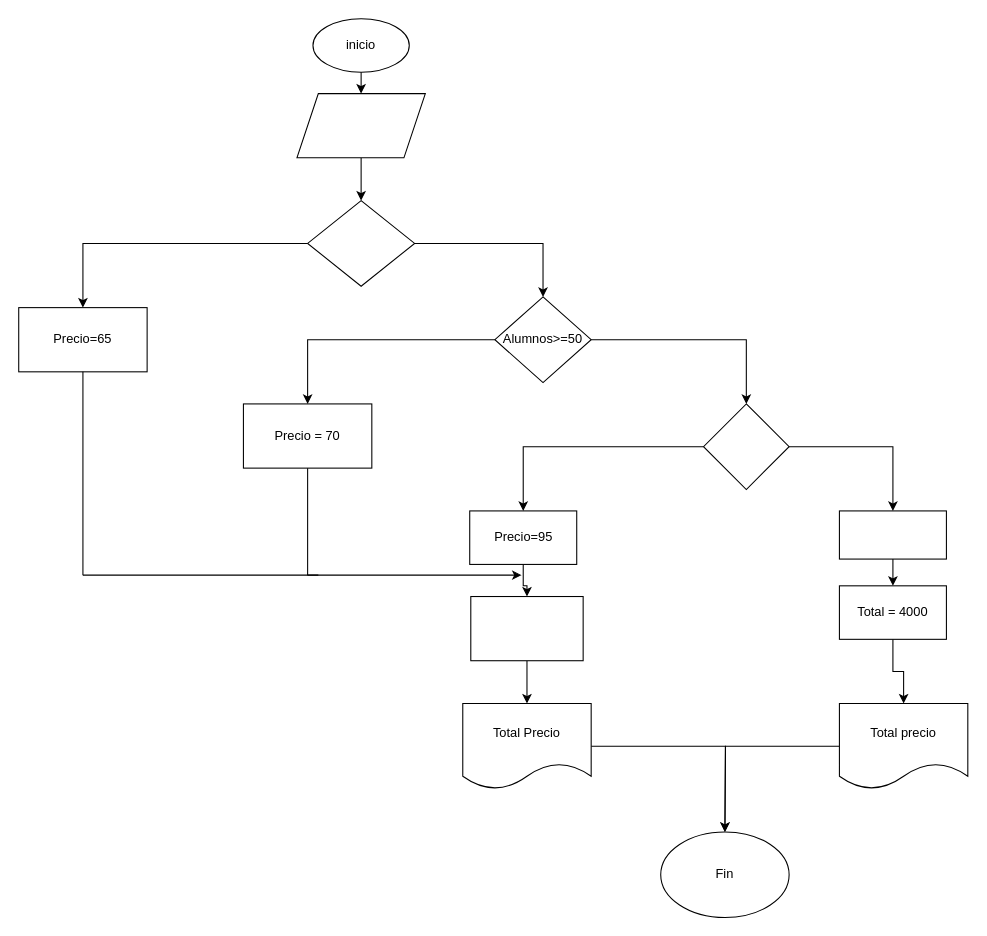
This 987x936 diagram has some shape labels left out. Each missing label, with the centre of its shape:
"Alumno>=30" goes at (x=745, y=446).
"Alumnos" goes at (x=360, y=125).
"Alumnos>=100" goes at (x=361, y=243).
"Precio= 4000/Alumnos" goes at (x=892, y=534).
"Total= precio*Alumnos" goes at (x=526, y=628).
